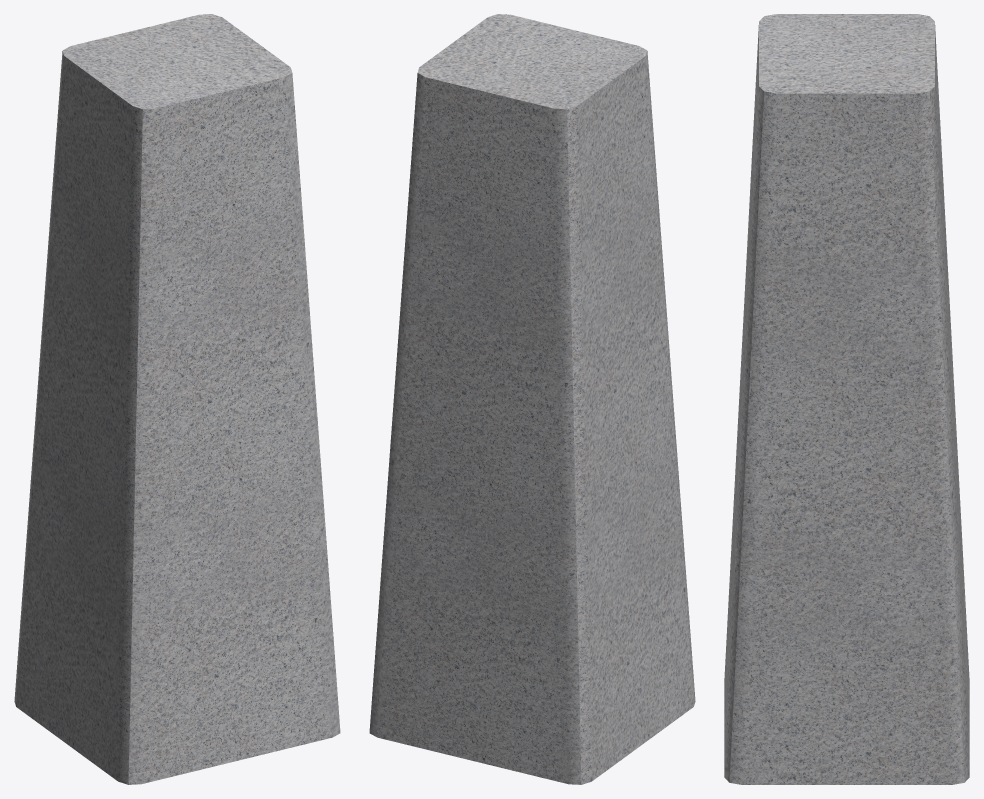
File: SM_S_Square_1.fbx
The picture shows the model from 3 angles, left to right: view 1: azimuth 30°, elevation 25°; view 2: azimuth 150°, elevation 25°; view 3: azimuth 270°, elevation 25°; orthographic projection. The views are drawn at different scales.
Visible parts, largest first — view 1: SM_S_Square_1; view 2: SM_S_Square_1; view 3: SM_S_Square_1.
Boxes of the visible parts, <box> form: SM_S_Square_1: <box>14,14,340,784</box>; SM_S_Square_1: <box>369,14,695,784</box>; SM_S_Square_1: <box>724,14,969,784</box>.
Bounding box in the file's own units: 94.54 × 88.35 × 268.
1 material, 1 textured.
